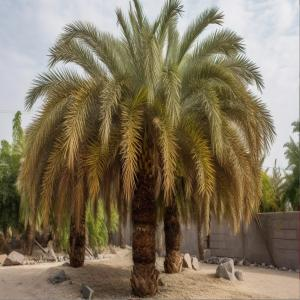palm tree: (20, 0, 276, 297)
